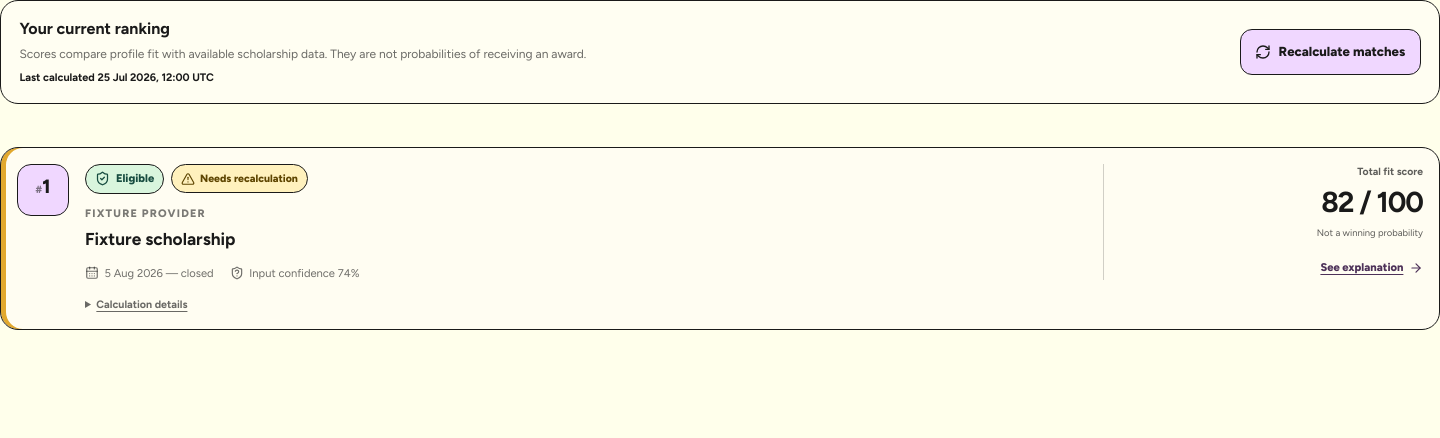
it: ranked match list › shows stale calculation metadata and its reason
The image size is (1440, 438).
Expected: the text "Needs recalculation" is shown, [171,164,308,193]
Step 1. Click the heading "Calculation details" → [136, 305], box [85,297,187,313]
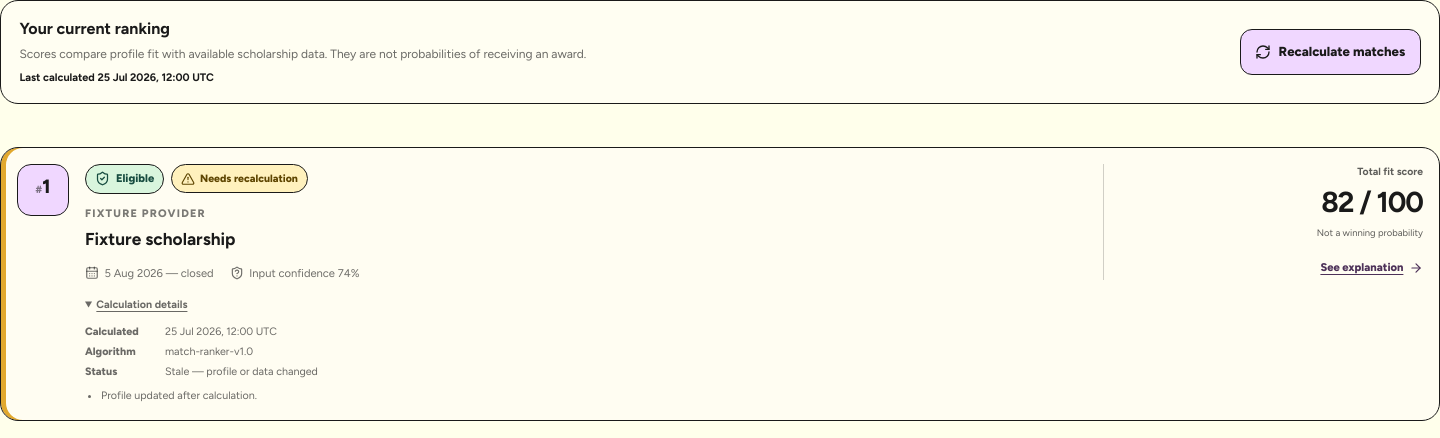
Expected: the list item "Profile updated after calculation." is shown, [101,389,257,402]
